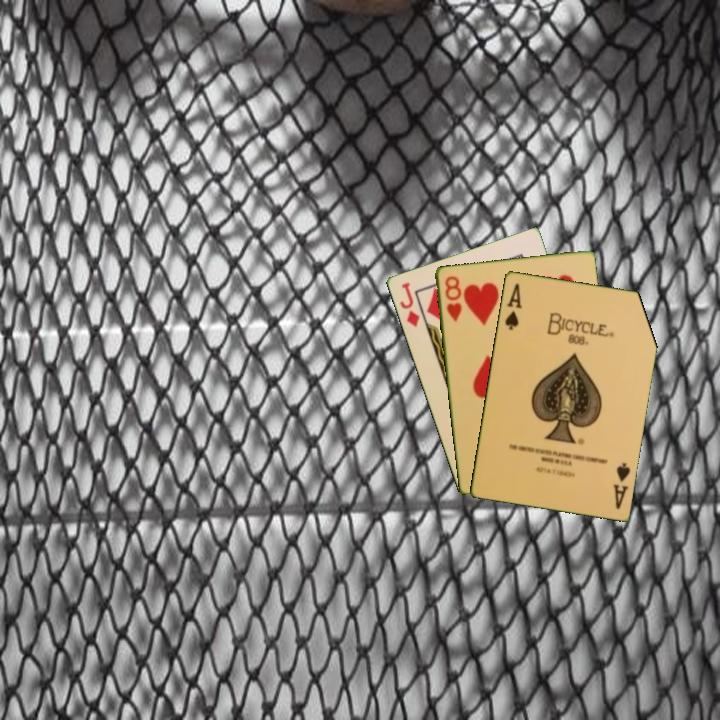8h: (441, 272, 464, 324)
As: (501, 279, 525, 333), (609, 459, 633, 512)
Jd: (396, 279, 423, 330)
